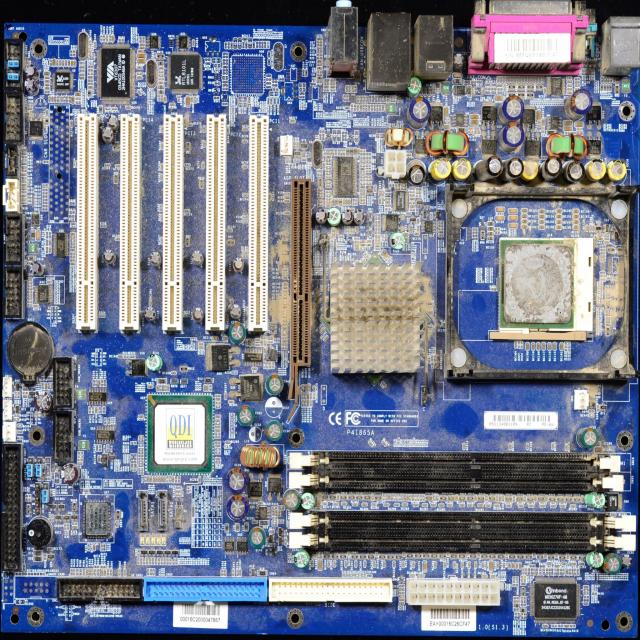Capacitor: (226, 494, 247, 521), (265, 420, 284, 443), (60, 463, 80, 483), (266, 374, 284, 395), (35, 390, 52, 412), (237, 405, 254, 426), (146, 354, 162, 371), (494, 215, 505, 221), (495, 206, 505, 212), (508, 222, 518, 228), (548, 342, 552, 351), (552, 342, 556, 350), (532, 342, 536, 350), (536, 342, 540, 350), (514, 341, 518, 348), (138, 414, 145, 418), (487, 231, 494, 235), (542, 342, 545, 351), (560, 342, 563, 350), (117, 354, 123, 358), (44, 383, 48, 389), (203, 384, 206, 392), (225, 392, 228, 400), (215, 405, 221, 409), (163, 476, 166, 484), (83, 488, 89, 492), (47, 546, 53, 550), (526, 342, 529, 349), (156, 385, 159, 392), (215, 401, 222, 404), (155, 476, 158, 483), (178, 489, 181, 496), (175, 490, 178, 497), (487, 237, 494, 240), (23, 394, 28, 398), (215, 418, 220, 422), (17, 423, 22, 427), (33, 304, 39, 307), (148, 385, 154, 388), (228, 400, 234, 403), (138, 436, 144, 439), (224, 441, 230, 444), (215, 444, 221, 447), (215, 457, 221, 460), (77, 462, 83, 465), (258, 501, 264, 504), (252, 520, 258, 523), (46, 280, 52, 283), (98, 455, 100, 463), (161, 476, 163, 484), (215, 429, 220, 432), (131, 468, 136, 471), (198, 477, 201, 482), (275, 513, 280, 516), (72, 525, 77, 528), (98, 379, 100, 386), (95, 406, 97, 413), (158, 476, 160, 483), (172, 476, 174, 483), (86, 568, 88, 575), (148, 476, 150, 482), (150, 476, 152, 482), (153, 476, 155, 482), (93, 544, 95, 550), (101, 569, 103, 575), (104, 569, 106, 575), (27, 278, 33, 280), (215, 398, 220, 400), (207, 384, 208, 392)
Connector: (288, 531, 636, 554), (287, 470, 626, 491), (288, 512, 636, 532), (287, 451, 629, 470), (204, 113, 227, 332), (76, 112, 98, 332), (248, 114, 270, 333), (163, 113, 184, 331), (120, 113, 140, 330), (291, 176, 311, 368), (268, 576, 393, 604), (144, 576, 268, 602), (1, 440, 22, 572), (57, 578, 143, 604), (54, 356, 74, 409), (3, 90, 22, 143), (4, 212, 23, 265), (3, 39, 23, 89), (53, 409, 72, 461), (5, 266, 22, 319), (3, 143, 21, 178), (4, 179, 20, 212), (138, 489, 149, 531), (157, 489, 167, 531), (2, 398, 14, 422), (3, 421, 17, 441), (2, 376, 12, 398)
IC: (145, 394, 214, 475), (96, 42, 136, 105), (530, 576, 581, 624), (166, 51, 203, 95), (82, 499, 110, 539), (332, 156, 357, 197), (52, 68, 74, 93), (28, 113, 44, 144), (53, 228, 69, 258), (33, 282, 54, 304), (87, 386, 108, 406), (95, 425, 116, 444), (392, 190, 410, 212), (243, 347, 263, 366), (546, 76, 565, 96), (146, 34, 162, 50), (176, 35, 191, 51), (255, 505, 270, 520), (451, 113, 468, 126), (547, 116, 562, 130), (422, 220, 436, 233)
Resistor Network: (105, 106, 112, 111), (92, 379, 96, 387), (103, 417, 107, 425), (82, 568, 86, 576), (49, 58, 53, 66), (416, 224, 420, 232), (494, 230, 500, 235), (564, 348, 571, 352), (100, 379, 104, 386), (118, 38, 125, 42), (102, 406, 106, 413), (175, 485, 182, 489), (66, 523, 70, 530), (154, 558, 158, 565), (163, 558, 167, 565), (542, 568, 546, 575), (88, 568, 92, 575), (569, 624, 576, 628), (56, 96, 60, 103), (325, 190, 332, 194), (378, 189, 382, 196), (520, 341, 523, 349), (130, 354, 136, 358), (123, 354, 129, 358), (431, 354, 434, 362), (139, 36, 145, 40), (209, 384, 212, 392), (301, 392, 304, 400), (215, 440, 221, 444), (130, 440, 136, 444), (267, 41, 270, 49), (215, 451, 221, 455), (215, 460, 221, 464), (138, 467, 144, 471), (169, 475, 172, 483), (278, 505, 284, 509), (70, 50, 76, 54), (278, 519, 284, 523), (272, 522, 278, 526), (269, 529, 275, 533), (284, 530, 287, 538), (316, 52, 322, 56), (70, 53, 76, 57), (142, 558, 146, 564), (148, 558, 152, 564), (175, 558, 178, 566), (533, 567, 536, 575), (76, 568, 79, 576), (96, 569, 100, 575), (123, 568, 126, 576), (360, 573, 366, 577), (520, 578, 526, 582), (513, 583, 519, 587), (583, 588, 589, 592), (514, 612, 520, 616), (551, 624, 557, 628), (558, 624, 564, 628), (88, 65, 94, 69), (581, 68, 587, 72), (574, 76, 580, 80), (87, 82, 93, 86), (330, 88, 336, 92), (157, 94, 163, 98), (390, 95, 396, 99), (75, 97, 81, 101), (356, 95, 359, 103), (21, 155, 27, 159), (21, 158, 27, 162), (366, 174, 372, 178), (21, 179, 27, 183), (21, 186, 27, 190), (21, 190, 27, 194), (360, 191, 366, 195), (385, 192, 391, 196), (21, 197, 27, 201), (355, 198, 358, 206), (384, 207, 392, 210), (381, 237, 387, 241), (70, 244, 76, 248), (517, 341, 520, 348), (95, 379, 98, 386), (301, 399, 304, 406), (98, 407, 101, 414), (175, 476, 178, 483), (187, 486, 190, 493), (115, 520, 118, 527), (284, 538, 287, 545), (137, 549, 140, 556), (153, 52, 156, 59), (152, 558, 155, 565), (137, 558, 140, 565), (169, 558, 172, 565), (160, 558, 163, 565), (522, 568, 525, 575), (539, 568, 542, 575), (577, 568, 580, 575), (147, 568, 150, 575), (559, 568, 562, 575), (70, 568, 73, 575), (79, 568, 82, 575), (236, 569, 239, 576), (232, 569, 235, 576), (220, 569, 223, 576), (87, 79, 94, 82), (365, 95, 368, 102), (68, 96, 71, 103), (365, 104, 368, 111), (362, 104, 365, 111), (293, 159, 300, 162), (373, 185, 376, 192), (317, 56, 322, 60), (324, 81, 329, 85), (318, 190, 323, 194), (386, 256, 390, 261), (564, 341, 570, 344), (564, 345, 570, 348), (304, 393, 307, 399), (214, 432, 220, 435), (214, 436, 220, 439), (138, 439, 144, 442), (138, 444, 144, 447), (93, 42, 96, 48), (106, 445, 109, 451), (138, 447, 144, 450), (138, 451, 144, 454), (78, 452, 84, 455), (138, 464, 144, 467), (317, 46, 323, 49), (25, 494, 31, 497), (25, 498, 31, 501), (72, 522, 78, 525), (89, 54, 95, 57), (167, 558, 170, 564), (172, 558, 175, 564), (94, 565, 100, 568), (554, 568, 557, 574), (512, 580, 518, 583), (584, 595, 590, 598), (520, 612, 526, 615), (588, 68, 594, 71), (88, 72, 94, 75), (588, 72, 594, 75), (316, 80, 322, 83), (574, 81, 580, 84), (330, 81, 336, 84), (574, 84, 580, 87), (323, 88, 329, 91), (343, 94, 349, 97), (48, 96, 51, 102), (157, 98, 163, 101), (390, 99, 396, 102), (76, 101, 82, 104), (360, 150, 366, 153), (334, 148, 337, 154), (329, 149, 332, 155), (21, 165, 27, 168), (325, 165, 331, 168), (22, 169, 28, 172), (366, 169, 372, 172), (325, 172, 331, 175), (21, 176, 27, 179), (366, 178, 372, 181), (360, 178, 366, 181), (366, 182, 372, 185), (360, 182, 366, 185), (317, 188, 323, 191), (284, 192, 290, 195), (325, 194, 331, 197), (360, 195, 366, 198), (325, 197, 331, 200), (21, 201, 27, 204), (494, 227, 500, 230), (472, 227, 478, 230), (381, 234, 387, 237), (354, 240, 360, 243), (360, 247, 366, 250), (70, 252, 76, 255), (89, 406, 91, 414), (92, 406, 94, 414), (166, 475, 168, 483), (88, 543, 90, 551), (140, 557, 142, 565), (146, 557, 148, 565), (153, 568, 155, 576), (73, 568, 75, 576), (91, 568, 93, 576), (110, 568, 112, 576), (355, 85, 357, 93), (326, 161, 330, 165), (138, 471, 143, 474), (317, 70, 322, 73), (567, 84, 572, 87), (360, 164, 365, 167), (366, 164, 371, 167), (326, 169, 331, 172), (360, 201, 365, 204), (438, 221, 443, 224), (438, 224, 443, 227), (438, 227, 443, 230), (428, 356, 430, 363), (106, 35, 108, 42), (304, 400, 306, 407), (310, 400, 312, 407), (178, 476, 180, 483), (318, 552, 320, 559), (320, 552, 322, 559), (44, 553, 46, 560), (546, 568, 548, 575), (569, 568, 571, 575), (549, 568, 551, 575), (563, 568, 565, 575), (574, 568, 576, 575), (150, 568, 152, 575), (118, 569, 120, 576), (224, 569, 226, 576), (94, 569, 96, 576), (386, 95, 388, 102), (360, 95, 362, 102), (64, 96, 66, 103), (343, 148, 345, 155), (286, 156, 288, 163), (434, 355, 436, 361), (109, 35, 111, 41), (103, 35, 105, 41), (310, 393, 312, 399), (588, 410, 594, 412), (140, 40, 146, 42), (316, 41, 322, 43), (99, 445, 101, 451), (215, 448, 221, 450), (138, 455, 144, 457), (138, 458, 144, 460), (138, 461, 144, 463), (144, 476, 146, 482), (272, 520, 278, 522), (64, 524, 66, 530), (100, 544, 102, 550), (158, 558, 160, 564), (100, 566, 106, 568), (525, 568, 527, 574), (107, 569, 109, 575), (348, 574, 354, 576), (342, 574, 348, 576), (583, 592, 589, 594), (592, 592, 598, 594), (520, 616, 526, 618), (582, 72, 588, 74), (567, 80, 573, 82), (66, 96, 68, 102), (363, 96, 365, 102), (350, 104, 352, 110), (354, 104, 356, 110), (338, 148, 340, 154), (340, 149, 342, 155), (332, 149, 334, 155), (324, 149, 326, 155), (327, 149, 329, 155), (360, 160, 366, 162), (360, 188, 366, 190), (70, 239, 76, 241), (491, 288, 496, 290), (272, 517, 277, 519), (354, 574, 359, 576), (513, 577, 518, 579), (88, 69, 93, 71), (366, 160, 371, 162), (360, 171, 365, 173), (360, 175, 365, 177), (326, 200, 331, 202)
Transistor: (206, 343, 242, 372), (230, 374, 262, 400), (480, 130, 498, 158), (523, 132, 543, 156), (480, 102, 498, 128), (382, 213, 406, 232), (585, 132, 602, 158), (267, 474, 283, 501), (587, 102, 602, 130), (415, 131, 430, 158), (248, 473, 262, 500), (429, 102, 443, 129), (125, 359, 147, 376), (604, 492, 623, 510), (522, 106, 536, 130), (236, 536, 248, 554), (224, 536, 235, 555), (13, 381, 22, 391), (13, 404, 22, 414), (269, 547, 278, 557), (156, 546, 164, 557), (599, 402, 607, 412), (58, 501, 66, 511), (49, 501, 57, 511), (62, 512, 70, 522), (54, 512, 62, 522), (276, 526, 284, 536), (163, 547, 171, 557), (276, 536, 284, 545), (148, 547, 156, 556), (300, 142, 308, 151), (293, 149, 301, 158), (434, 210, 442, 219), (421, 210, 428, 220), (266, 534, 274, 542), (141, 547, 148, 556), (409, 215, 416, 224), (29, 388, 35, 398), (72, 511, 78, 521), (172, 546, 178, 556), (48, 551, 54, 561), (108, 453, 115, 461), (417, 198, 423, 206), (367, 186, 372, 195)
